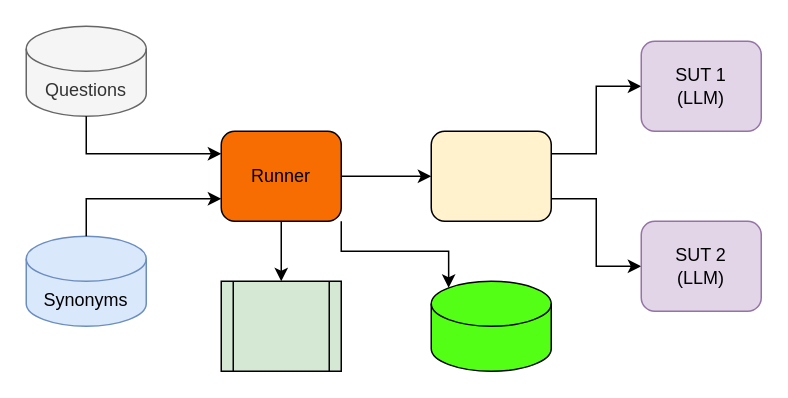
This 788x398 diagram has some shape labels left out. Each missing label, with the centre of its shape:
CA Generator: the point at 280,325
Model Interface: the point at 490,175
Result Storage DB: the point at 490,325
